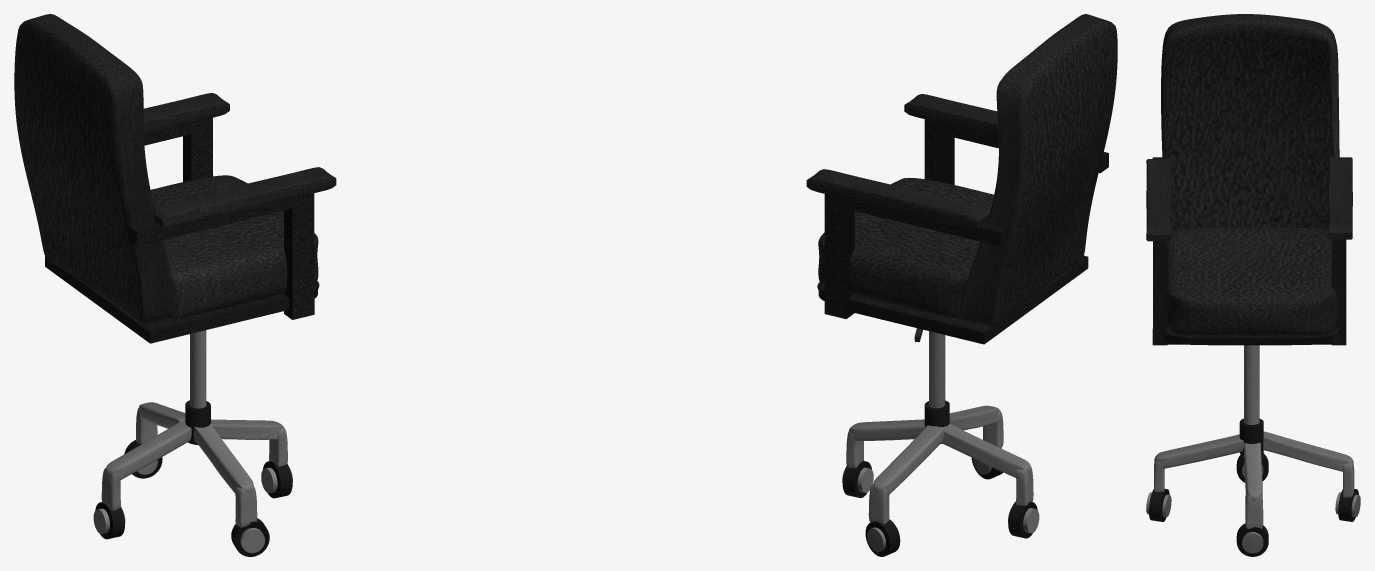
Rendered from office chair.fbx.
The picture shows the model from 3 angles, left to right: view 1: azimuth 30°, elevation 25°; view 2: azimuth 150°, elevation 25°; view 3: azimuth 270°, elevation 25°; orthographic projection. The views are drawn at different scales.
Parts seen in each view (by area): view 1: Cube.006, Cube, Cube.001, Cube.002, Cube.012, Cube.010, Cube.004, Cube.008, Cube.003, Cube.009, Cube.013, Cylinder.002 (+5 smaller); view 2: Cube.006, Cube, Cube.004, Cube.003, Cube.011, Cube.001, Cube.012, Cube.002, Cube.007, Cube.009, Cube.010, Cube.013 (+2 smaller); view 3: Cube.006, Cube, Cube.002, Cube.003, Cube.011, Cube.005, Cube.010, Cube.009, Cube.001, Cube.004, Cylinder.002, Cylinder.003 (+5 smaller).
Part boxes in pixels (x1,y1,x2,y2): Cube.006: (14,14,177,323); Cube: (150,175,318,318); Cube.001: (128,193,314,319); Cube.002: (154,167,336,228); Cube.012: (101,420,191,510); Cube.010: (194,424,257,527); Cube.004: (144,117,213,181); Cube.008: (147,296,288,343); Cube.003: (143,93,229,134); Cube.009: (211,419,287,466); Cube.013: (47,259,158,341); Cylinder.002: (190,330,206,408); Cube.006: (958,14,1117,327); Cube: (818,177,993,318); Cube.004: (824,194,1004,319); Cube.003: (806,169,990,229); Cube.011: (868,425,944,524); Cube.001: (924,119,1108,184); Cube.012: (932,423,1033,505); Cube.002: (904,94,998,137); Cube.007: (847,297,986,344); Cube.009: (846,419,925,468); Cube.010: (949,405,1003,448); Cube.013: (976,258,1085,342); Cube.006: (1161,14,1339,232); Cube: (1165,227,1337,335); Cube.002: (1146,159,1171,241); Cube.003: (1327,157,1352,239); Cube.011: (1263,431,1354,497); Cube.005: (1163,326,1339,345); Cube.010: (1154,434,1243,491); Cube.009: (1244,442,1263,529); Cube.001: (1152,157,1167,345); Cube.004: (1331,157,1346,345); Cylinder.002: (1244,345,1259,424); Cylinder.003: (1239,418,1263,455).
Bounding box in the file's own units: 388 × 378 × 163.
